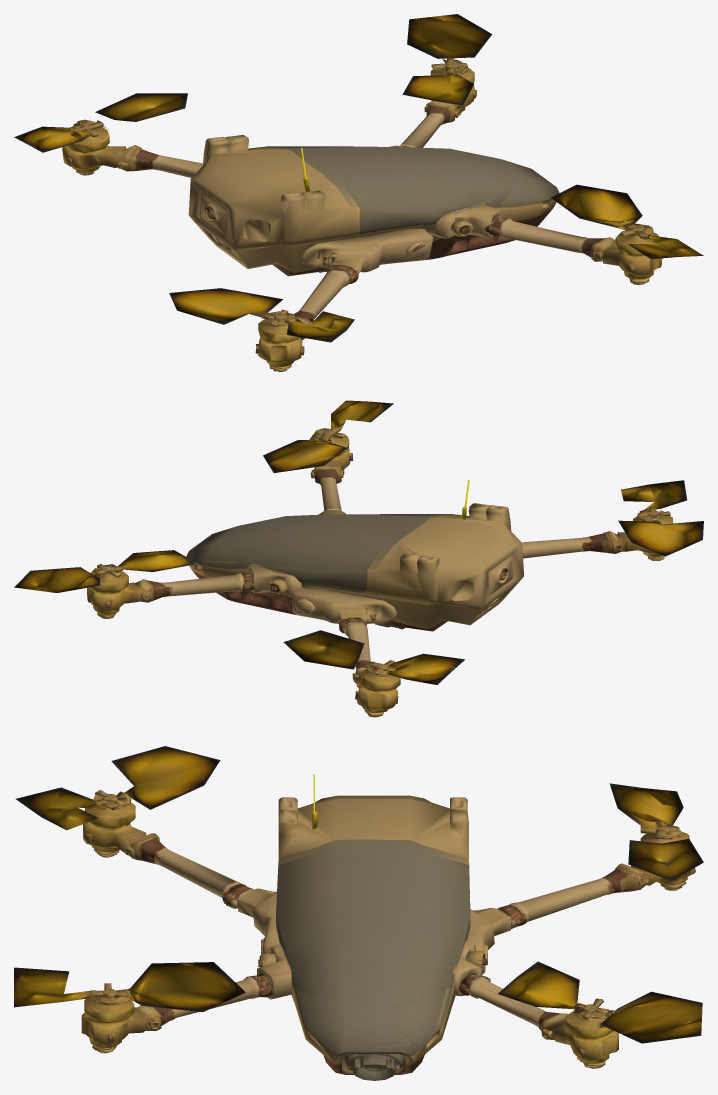
The model's file is recon.glb.
3 renders of one model, top to bottom at view 1: azimuth 30°, elevation 25°; view 2: azimuth 150°, elevation 25°; view 3: azimuth 270°, elevation 25°, orthographic. The views are drawn at different scales.
Parts seen in each view (by area): view 1: tripo_node_d17089a4-3e94-4e8e-b9ad-d14bad47fee2; view 2: tripo_node_d17089a4-3e94-4e8e-b9ad-d14bad47fee2; view 3: tripo_node_d17089a4-3e94-4e8e-b9ad-d14bad47fee2.
Boxes of the visible parts, x1,y1,x2,y2 form: tripo_node_d17089a4-3e94-4e8e-b9ad-d14bad47fee2: [14, 14, 703, 371]; tripo_node_d17089a4-3e94-4e8e-b9ad-d14bad47fee2: [14, 400, 703, 717]; tripo_node_d17089a4-3e94-4e8e-b9ad-d14bad47fee2: [14, 746, 703, 1080].
Bounding box in the file's own units: 0.9902 × 0.2791 × 0.998.
1 material, 1 textured.
